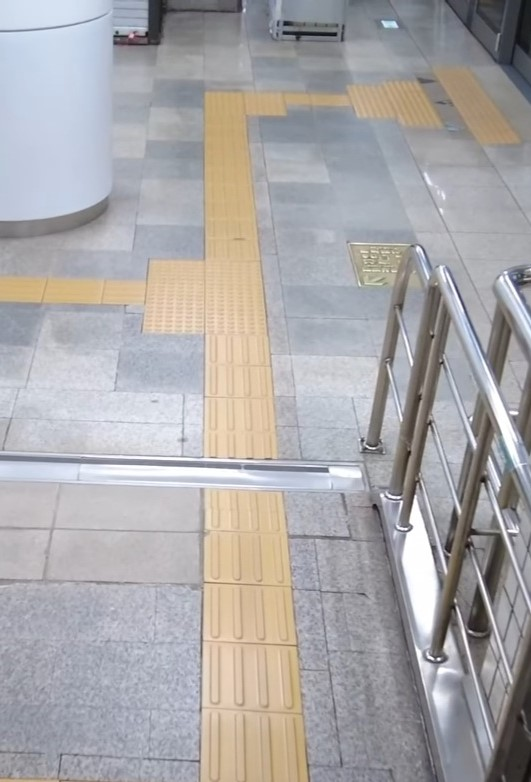guideBlock: (204, 703, 313, 782), (196, 647, 296, 700), (206, 587, 297, 640), (207, 530, 291, 584), (205, 485, 282, 535), (204, 404, 270, 437), (209, 431, 277, 462), (204, 336, 265, 368), (210, 368, 273, 398)
warningBlock: (207, 287, 271, 337), (151, 258, 210, 293), (152, 293, 199, 332), (211, 259, 260, 292)
